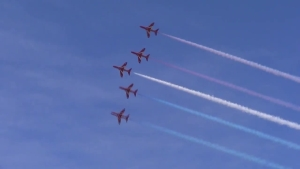flight: (130, 47, 151, 64), (109, 108, 130, 125), (139, 21, 160, 37), (112, 61, 132, 77), (119, 83, 138, 99)
